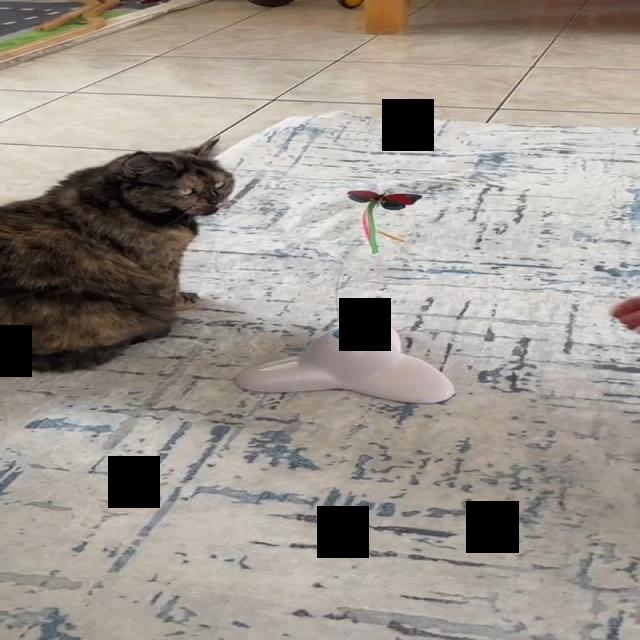authorized: (0, 134, 235, 373)
